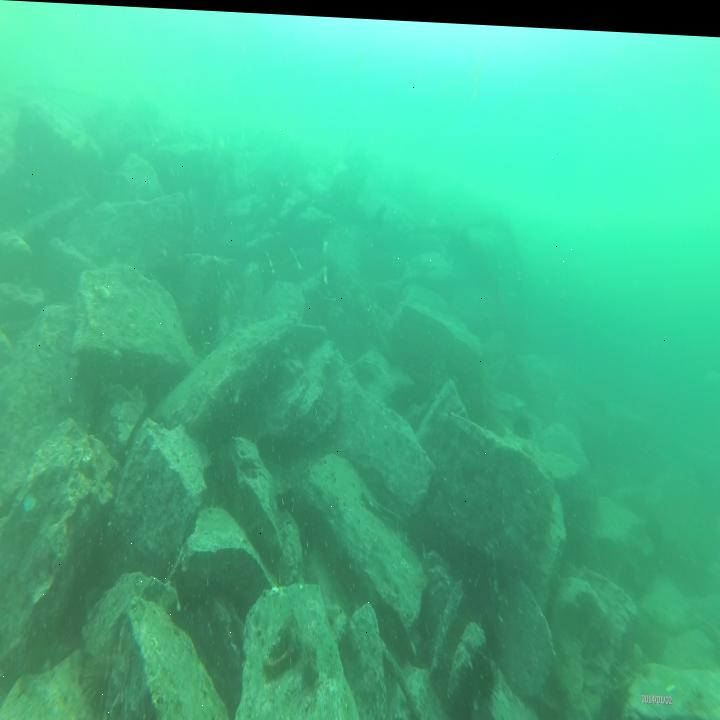echinus: (77, 662, 116, 707), (468, 649, 499, 698)
